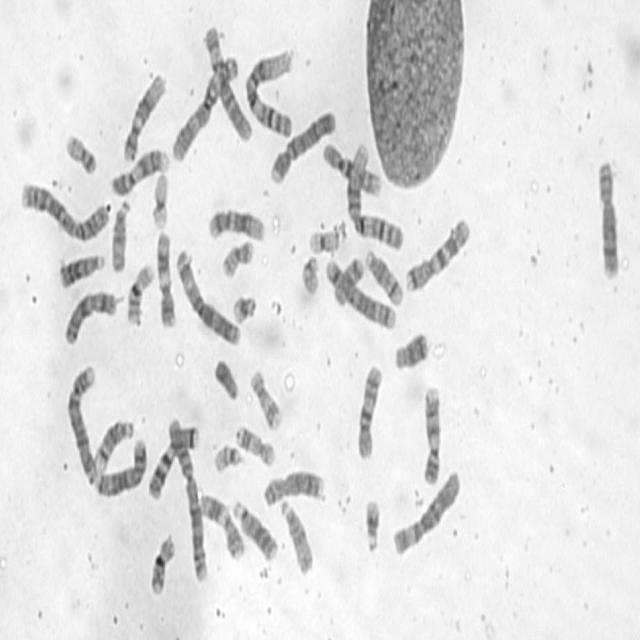A1: (344, 140, 406, 252), (242, 46, 295, 138)
A2: (166, 413, 209, 584), (18, 176, 110, 242)
A3: (170, 53, 240, 164), (174, 245, 241, 348)
B4: (266, 105, 338, 186), (64, 361, 99, 481)
B5: (324, 254, 396, 330), (93, 434, 148, 498)
C10: (320, 138, 383, 199), (354, 360, 384, 462)
C11: (198, 490, 245, 562), (154, 228, 176, 329)
C12: (120, 68, 167, 164), (206, 206, 265, 242)
C6: (389, 466, 463, 559), (201, 21, 253, 144)
C7: (402, 214, 472, 295), (146, 421, 201, 502)
C8: (594, 154, 621, 282), (262, 466, 326, 509)
C9: (110, 144, 170, 197), (420, 384, 442, 487)
D13: (230, 497, 279, 564), (57, 248, 106, 290)
D14: (362, 245, 403, 308), (93, 415, 134, 472)
D15: (278, 496, 314, 577), (109, 194, 132, 273)
E16: (146, 530, 178, 599), (123, 259, 154, 326)
E17: (248, 366, 283, 432), (233, 421, 277, 468)
E18: (331, 254, 365, 307), (392, 328, 430, 373)
F19: (149, 168, 170, 231), (306, 225, 341, 255)
F20: (63, 129, 98, 176), (219, 237, 255, 280)
G21: (361, 495, 382, 553), (230, 292, 257, 324)
G22: (210, 439, 243, 475), (299, 253, 320, 296)
X: (62, 287, 117, 347)
Y: (212, 354, 240, 402)
